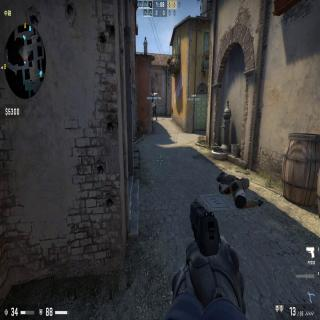CT-Body: (152, 103, 158, 121)
